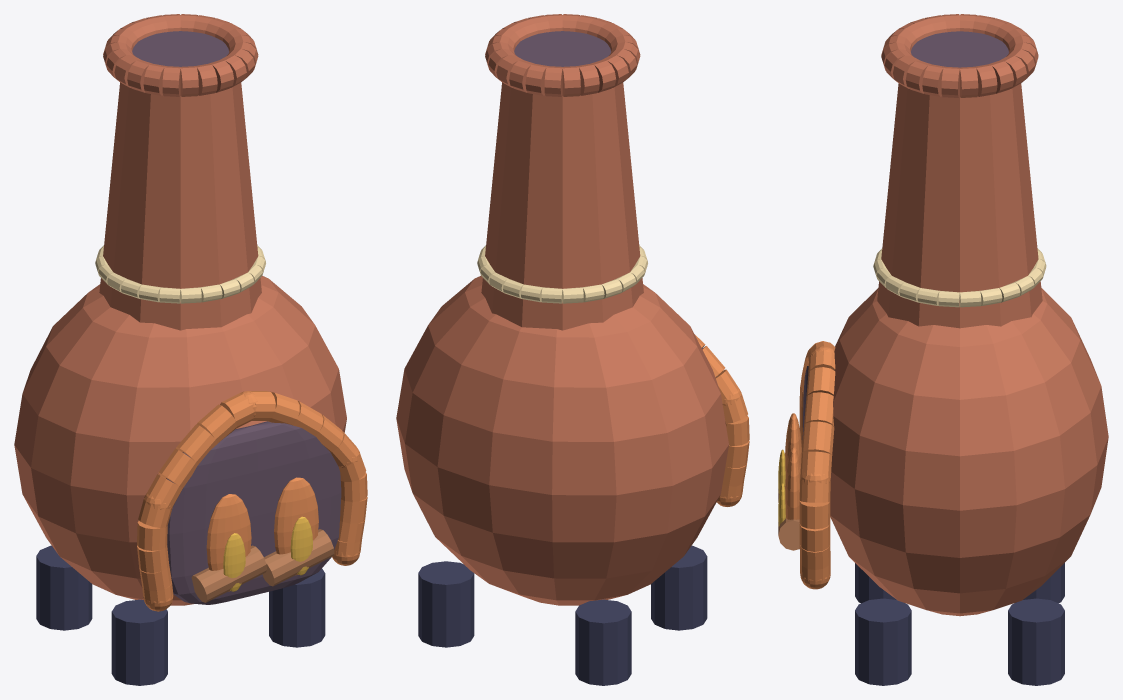
File: clay-chiminea.glb
The picture shows the model from 3 angles, left to right: view 1: azimuth 30°, elevation 25°; view 2: azimuth 150°, elevation 25°; view 3: azimuth 270°, elevation 25°; orthographic projection.
Visible parts, largest first — view 1: clay-chiminea; view 2: clay-chiminea; view 3: clay-chiminea.
Boxes of the visible parts, x1,y1,x2,y2 form: clay-chiminea: [14, 14, 367, 685]; clay-chiminea: [396, 14, 749, 685]; clay-chiminea: [778, 14, 1108, 685].
Size of the model in its own units: 0.8 by 1.5 by 0.755.
